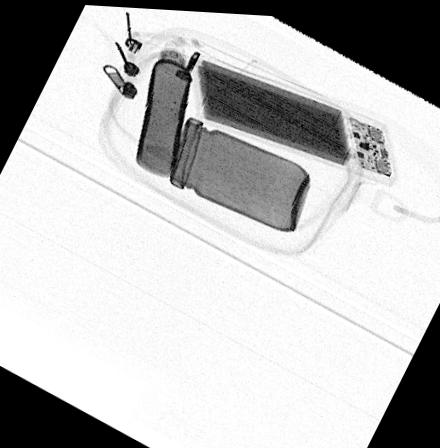Powerbank: (190, 50, 395, 178)
